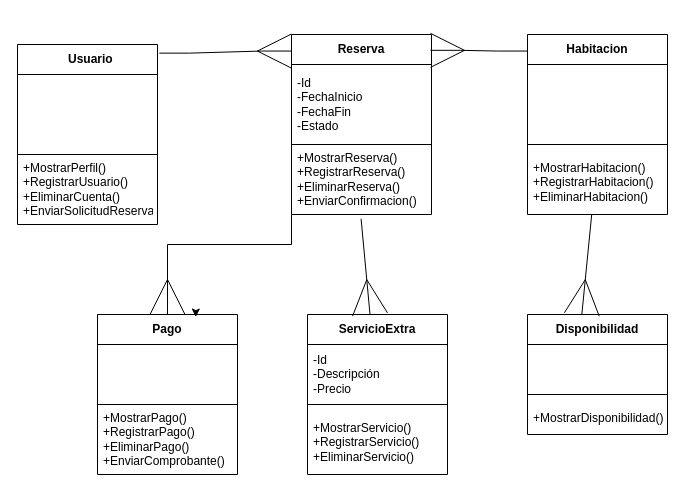
Image size: 685x493. Some labels were removed from this diagram. Each missing label, with the centre of its shape:
-Fecha -Disponible: the point at 597,369
-Id -Monto -Método -Fecha: the point at 167,374
-Id -Nombre -Correo -Contraseña: the point at 87,114
-Id -Tipo -Precio -Capacidad: the point at 597,104
